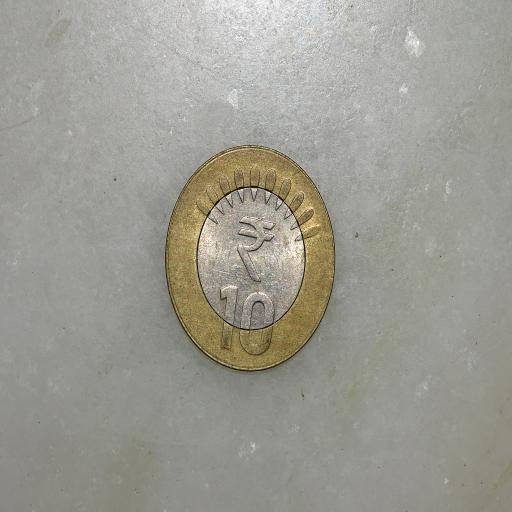rupee10: (154, 145, 338, 380)
